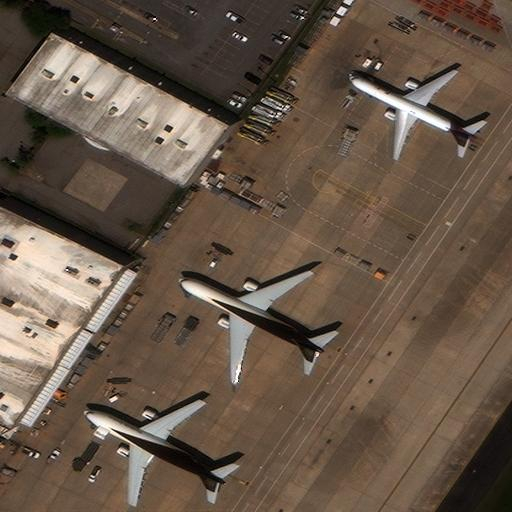Large Civil Transport: (175, 268, 325, 382), (81, 397, 228, 506), (344, 69, 479, 159)
